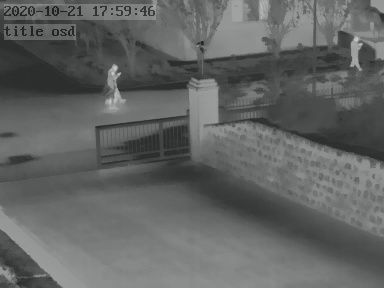person: (103, 62, 121, 105), (349, 29, 365, 70)
